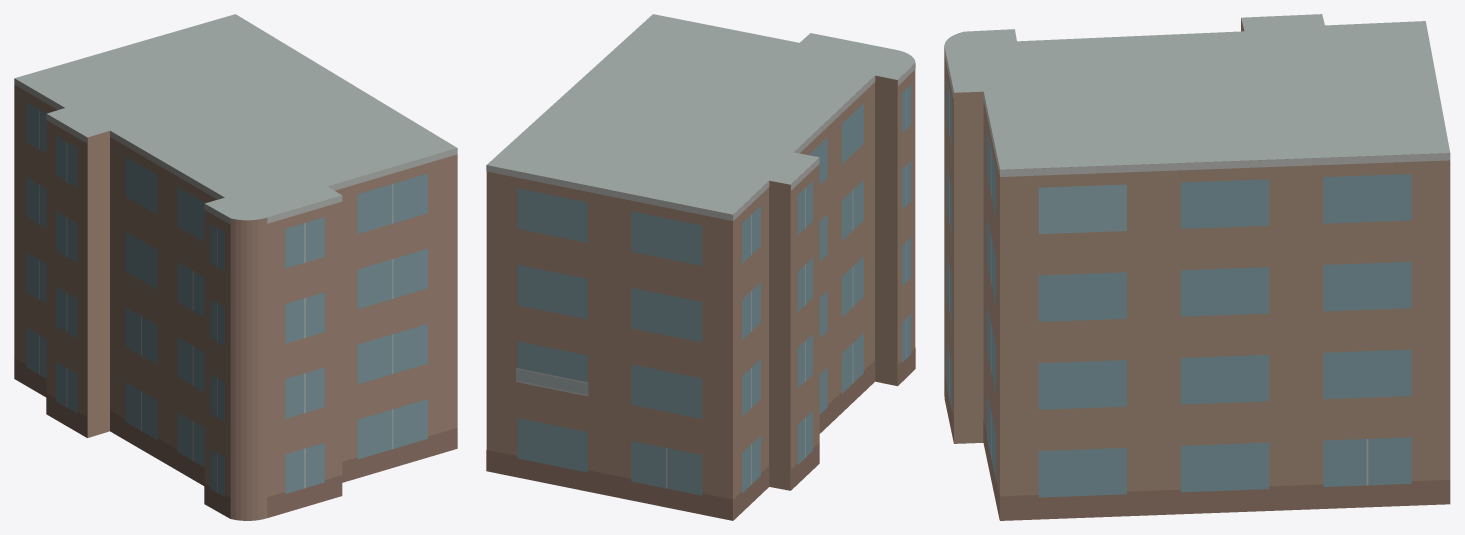
Rendered from survey-upis-32938597.glb.
3 renders of one model, left to right at view 1: azimuth 30°, elevation 25°; view 2: azimuth 150°, elevation 25°; view 3: azimuth 270°, elevation 25°, orthographic. The views are drawn at different scales.
Parts seen in each view (by area): view 1: survey-upis-32938597.tmp; view 2: survey-upis-32938597.tmp; view 3: survey-upis-32938597.tmp.
Part boxes in pixels (box(x1,y1,x2,y2)): survey-upis-32938597.tmp: box(14, 14, 457, 520); survey-upis-32938597.tmp: box(486, 14, 915, 520); survey-upis-32938597.tmp: box(944, 14, 1450, 520).
Bounding box in the file's own units: 11.04 × 11.6 × 15.15.
